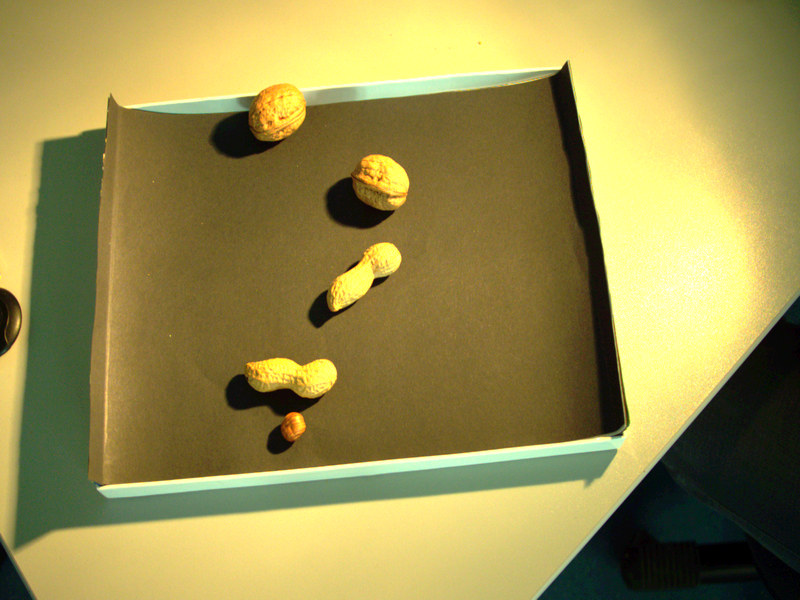walnut: (347, 150, 417, 215), (244, 80, 312, 146)
